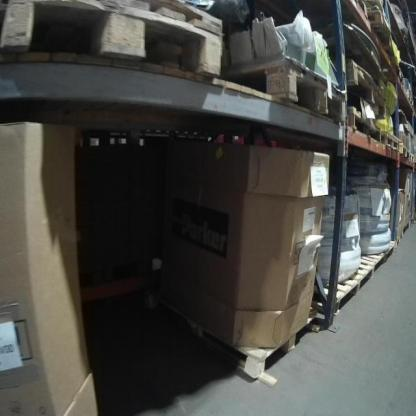pallet: (1, 2, 226, 81), (229, 53, 333, 114), (225, 314, 313, 385), (345, 57, 398, 117), (308, 270, 373, 315), (348, 105, 382, 144), (357, 241, 395, 272), (367, 7, 392, 45), (383, 129, 402, 153), (395, 63, 407, 87), (393, 229, 404, 247), (401, 145, 411, 163), (411, 152, 415, 164)
